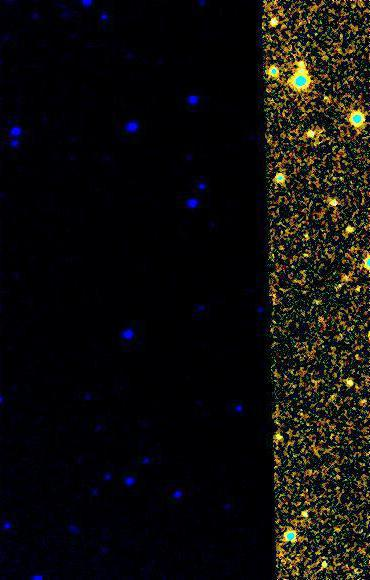star: (291, 495, 321, 525)
